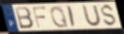B: (14, 7, 35, 30)
F: (32, 6, 48, 29)
I: (67, 5, 76, 28)
Q: (50, 5, 70, 29)
S: (101, 3, 118, 27)
U: (82, 4, 102, 28)
